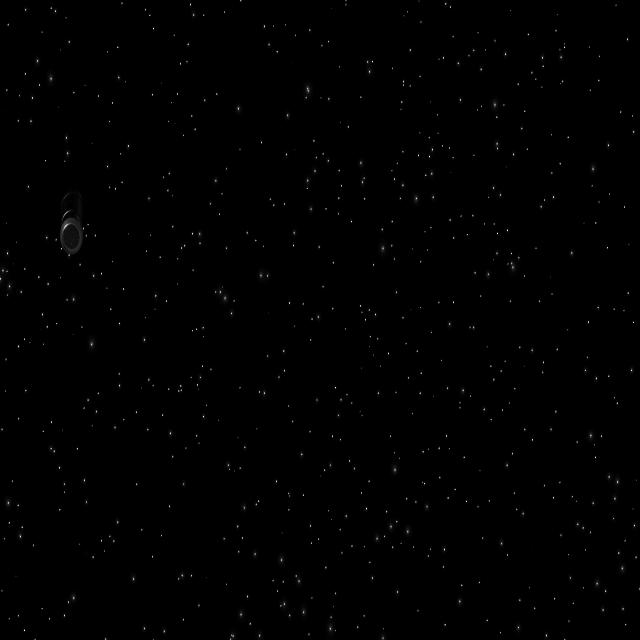large_debris: (59, 184, 84, 258)
